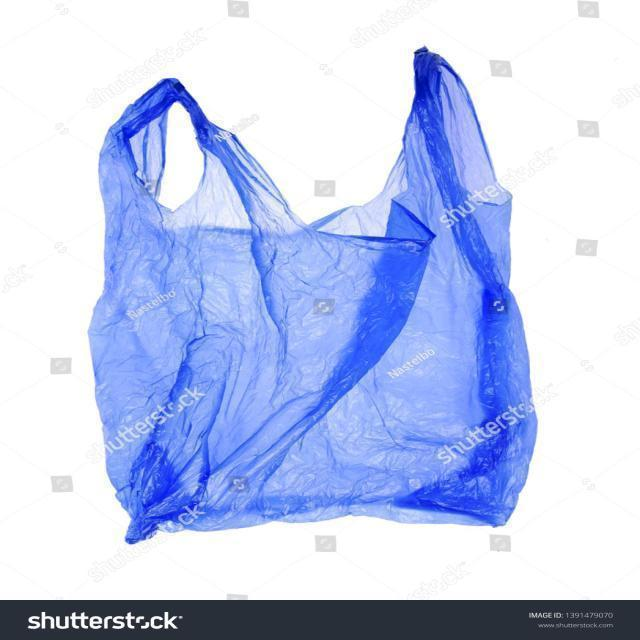KantongPlastik: (86, 44, 538, 544)
